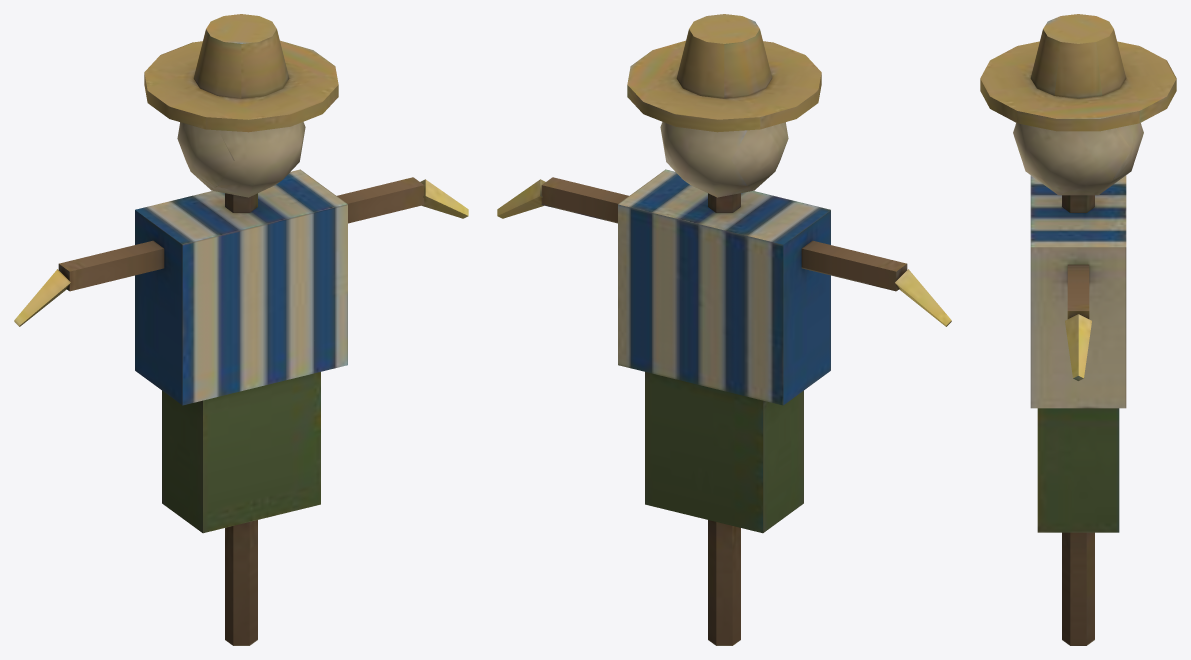
Rendered from espantapajaros.glb.
3 renders of one model, left to right at view 1: azimuth 30°, elevation 25°; view 2: azimuth 150°, elevation 25°; view 3: azimuth 270°, elevation 25°, orthographic.
Parts seen in each view (by area): view 1: espantapajaros; view 2: espantapajaros; view 3: espantapajaros.
Boxes of the visible parts, x1,y1,x2,y2 form: espantapajaros: (14, 14, 468, 645); espantapajaros: (497, 14, 951, 645); espantapajaros: (980, 14, 1176, 645).
Bounding box in the file's own units: 1.92 × 2.47 × 0.72.
Materials: 1 (1 with a texture image).
